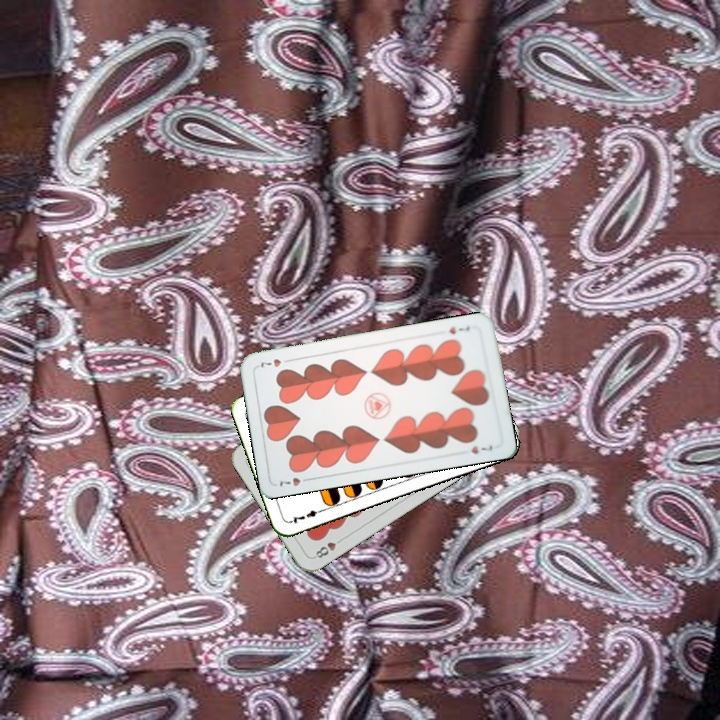E7: (287, 505, 326, 526)
H7: (275, 473, 314, 489), (445, 322, 472, 337)
H8: (310, 534, 346, 561)
